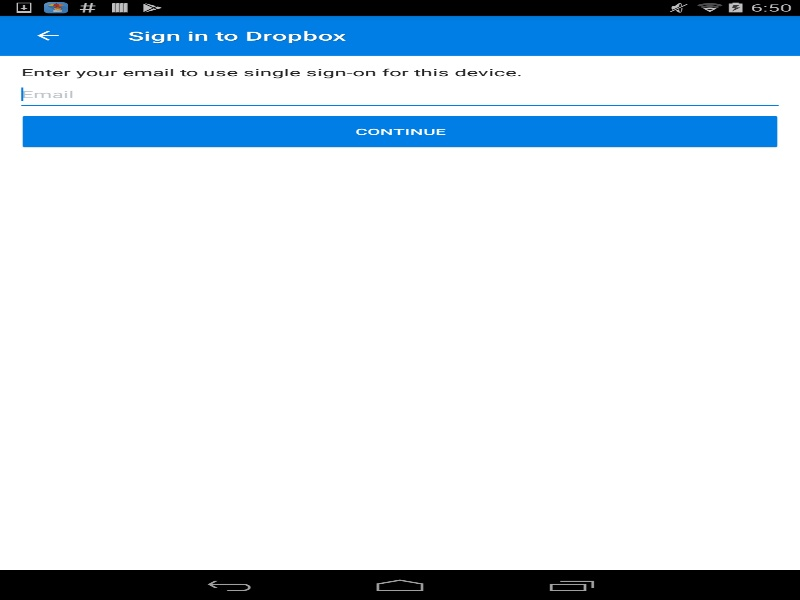Button: (21, 115, 778, 148), (10, 15, 85, 55)
Input: (21, 87, 778, 105)
